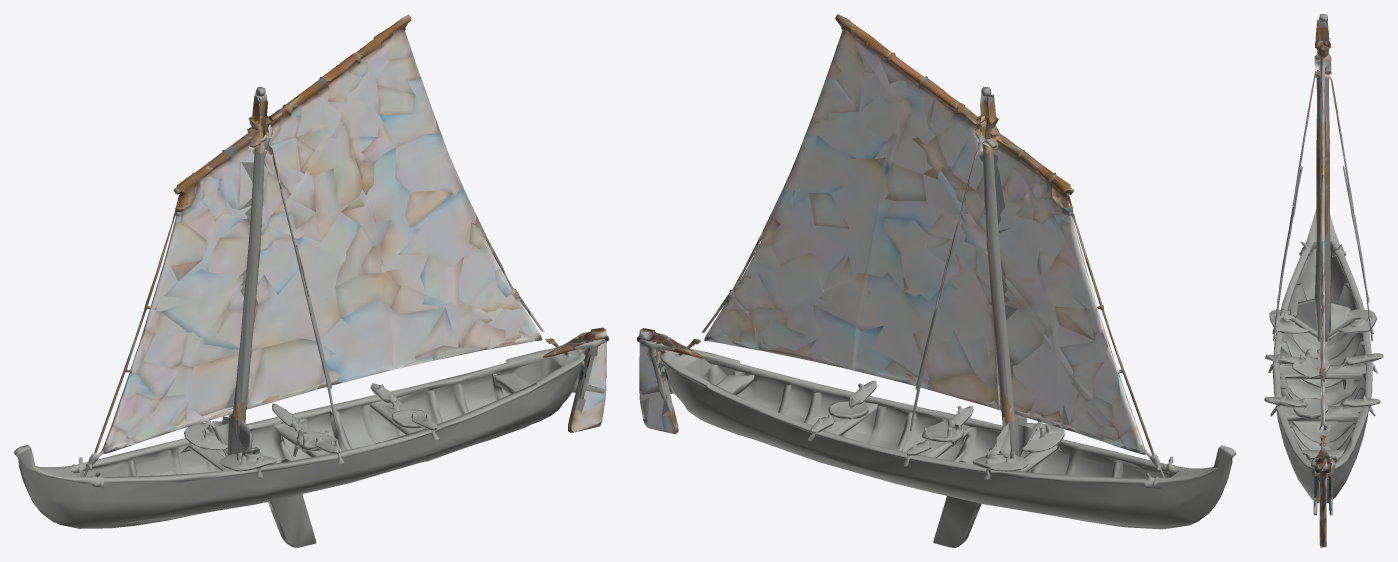
File: pinasse.glb
The picture shows the model from 3 angles, left to right: view 1: azimuth 30°, elevation 25°; view 2: azimuth 150°, elevation 25°; view 3: azimuth 270°, elevation 25°; orthographic projection. The views are drawn at different scales.
Visible parts, largest first — view 1: Vela, lite_static, Leme; view 2: Vela, lite_static, Leme; view 3: lite_static, Vela, Leme.
Boxes of the visible parts, x1,y1,x2,y2 form: Vela: (94, 14, 544, 452); lite_static: (14, 87, 605, 547); Leme: (543, 327, 608, 432); Vela: (702, 14, 1153, 453); lite_static: (639, 87, 1235, 547); Leme: (637, 328, 703, 434); lite_static: (1264, 14, 1383, 515); Vela: (1308, 22, 1337, 430); Leme: (1314, 435, 1332, 547).
Size of the model in its own units: 9.01 by 7.33 by 1.73.
2 materials, 1 textured.
